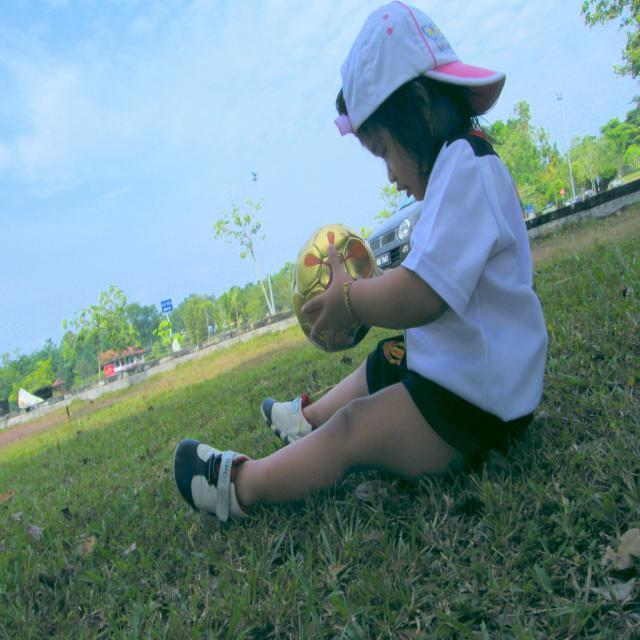football: (281, 221, 389, 345)
